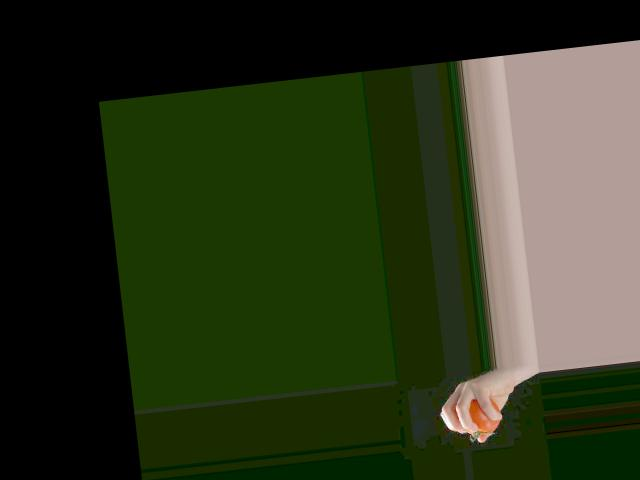tomato: (463, 394, 502, 434)
